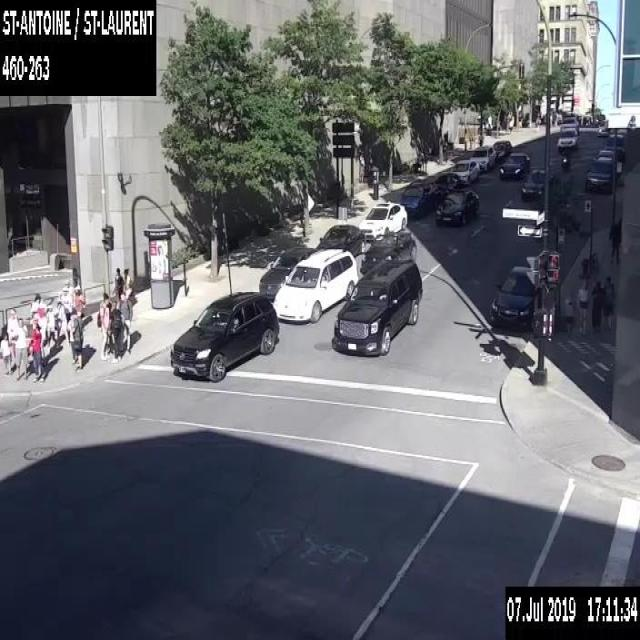pedestrian: (66, 307, 84, 368), (96, 291, 110, 360), (13, 317, 28, 380), (108, 300, 123, 362), (30, 323, 46, 381), (34, 304, 48, 366), (119, 292, 132, 353), (602, 275, 615, 328), (590, 279, 603, 332), (6, 307, 18, 363), (55, 300, 69, 346), (577, 280, 589, 332), (124, 280, 138, 322), (563, 292, 575, 339), (45, 304, 57, 347), (609, 217, 620, 263), (112, 267, 124, 309), (0, 331, 12, 373), (72, 284, 85, 320), (60, 286, 72, 322), (30, 292, 44, 318), (122, 266, 130, 308), (477, 131, 483, 145), (548, 110, 553, 126), (553, 110, 558, 125)
vehicle: (170, 290, 279, 380), (332, 258, 422, 354), (272, 248, 358, 322), (486, 264, 542, 324), (258, 244, 317, 300), (359, 230, 416, 276), (358, 201, 407, 241), (396, 178, 441, 215), (315, 223, 365, 256), (435, 188, 479, 224), (521, 168, 553, 200), (584, 156, 612, 192), (498, 152, 530, 179), (450, 158, 479, 184), (468, 144, 496, 170), (434, 171, 463, 194), (603, 133, 625, 159), (556, 127, 578, 150), (492, 140, 512, 161), (591, 148, 614, 163), (559, 116, 579, 132), (596, 118, 613, 135), (559, 146, 570, 170)
